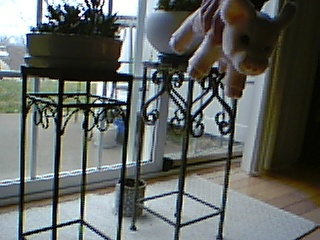piggy: (168, 1, 298, 100)
